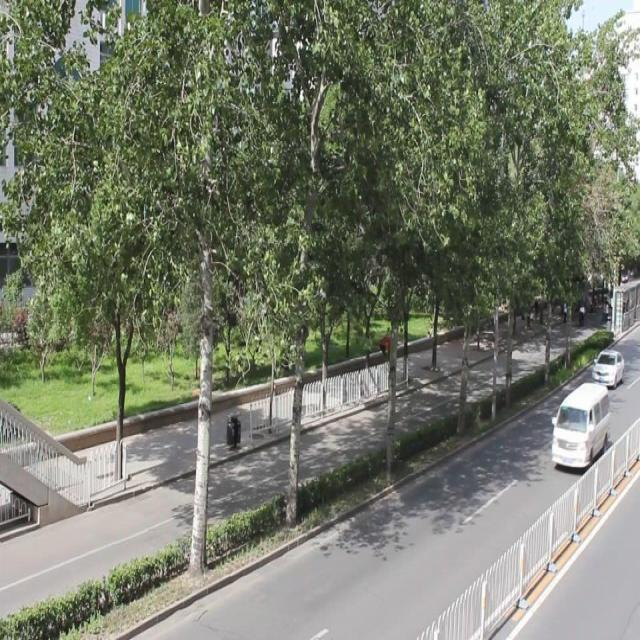car: (549, 376, 615, 471), (590, 338, 625, 391)
